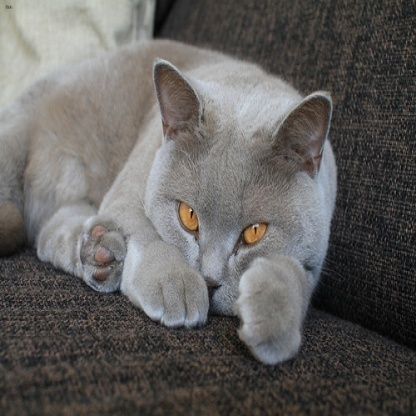british_shorthair: (2, 29, 338, 364)
